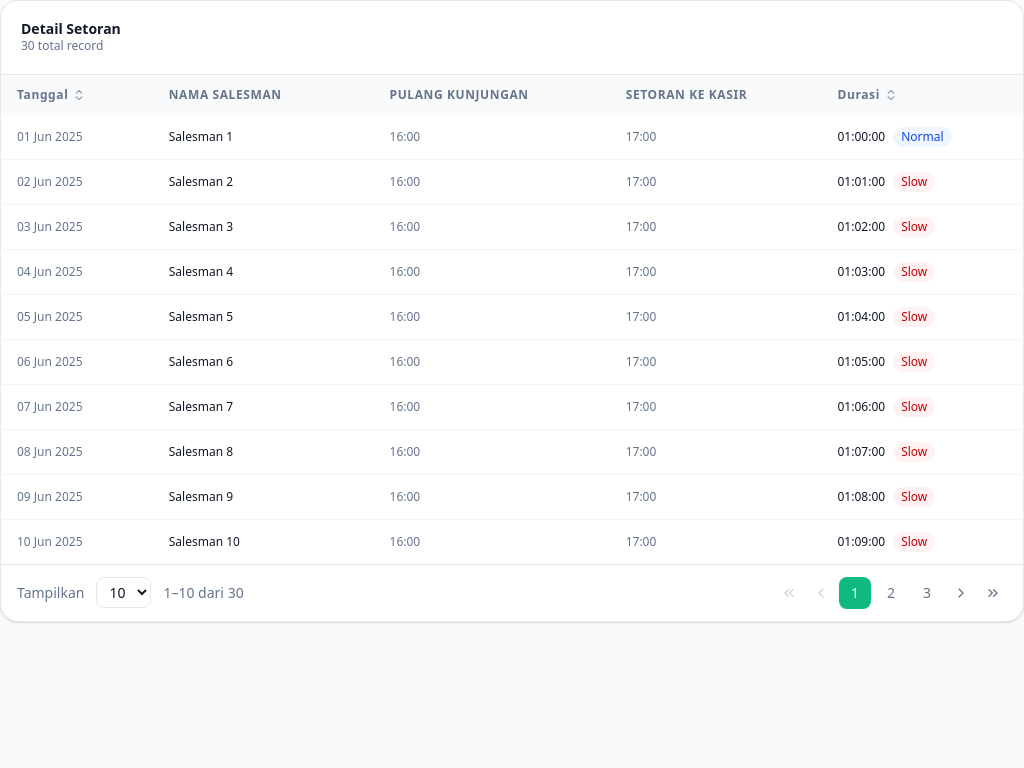
Test: Workflow 5 — Table navigation: pagination controls (Requirements 5.1, 8.3, 8.4, 8.5) › navigates to the next page when "Halaman berikutnya" is clicked
Click the button named "halaman berikutnya" at (961, 593), box [947, 579, 975, 607]
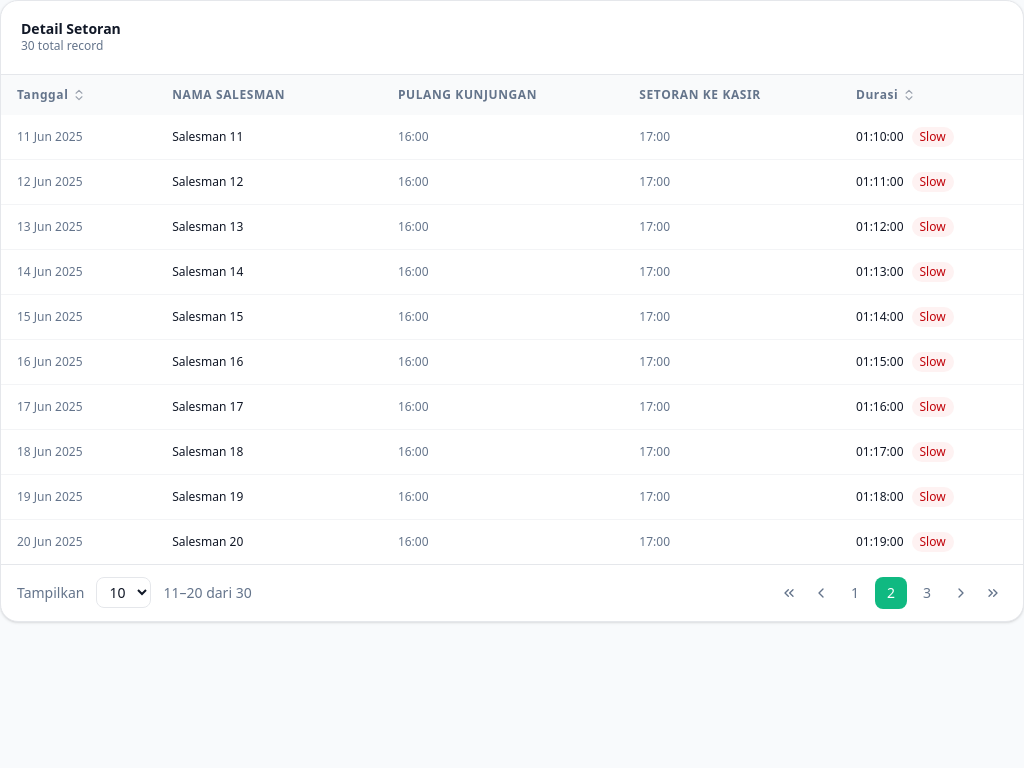
Expected: the text "11–20 dari 30" is shown, [163, 583, 252, 603]
